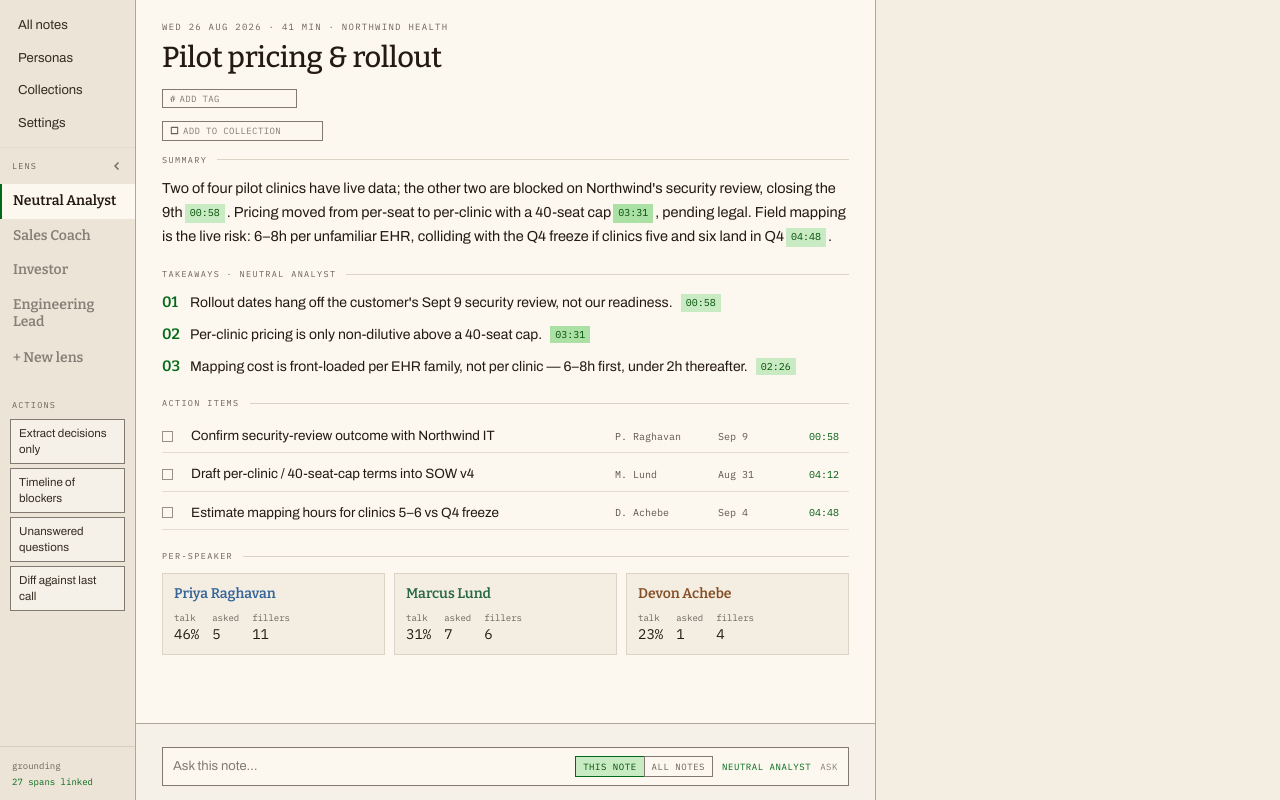
Test: below 1024px, the transcript overlay › opens at a citation's segment
Click the button named "Jump to transcript at": click(205, 214) [185,204,225,223]
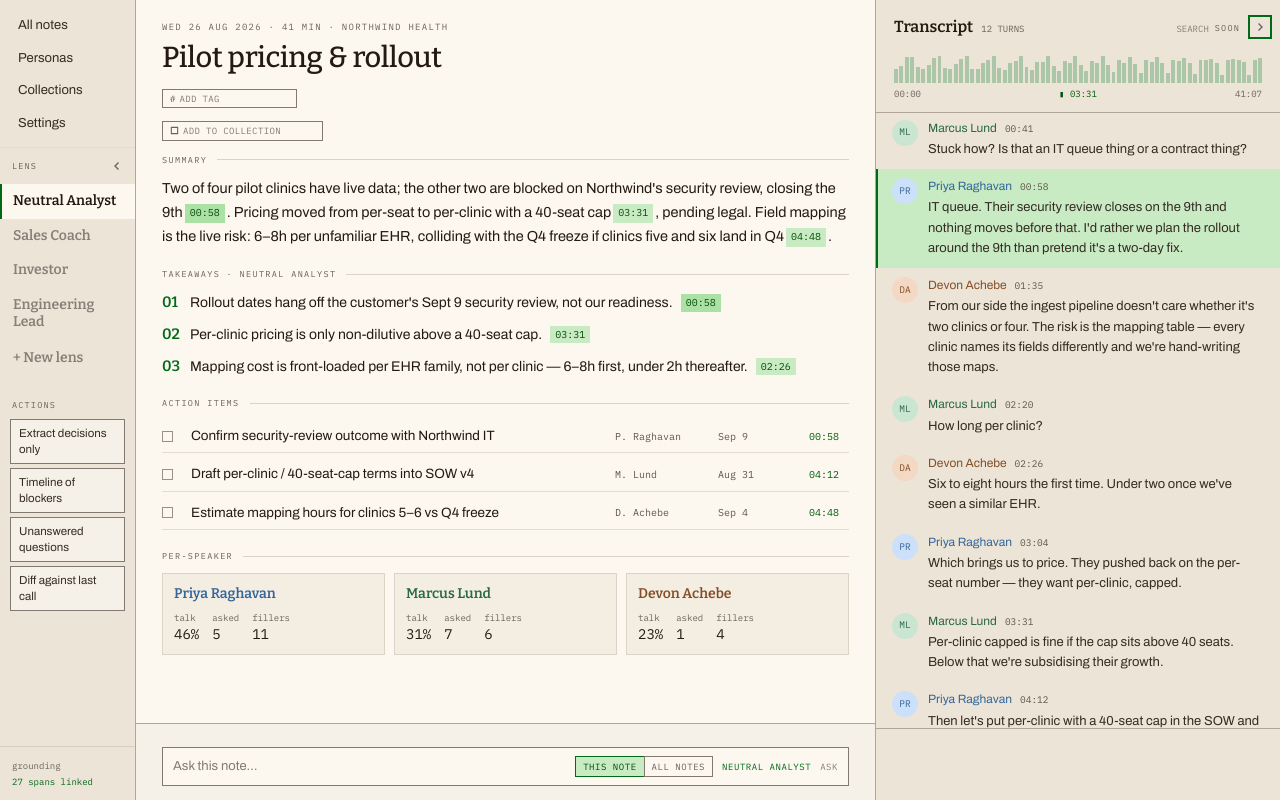
Now the element with id "transcript-pane" is shown, box [876,0,1279,799]
